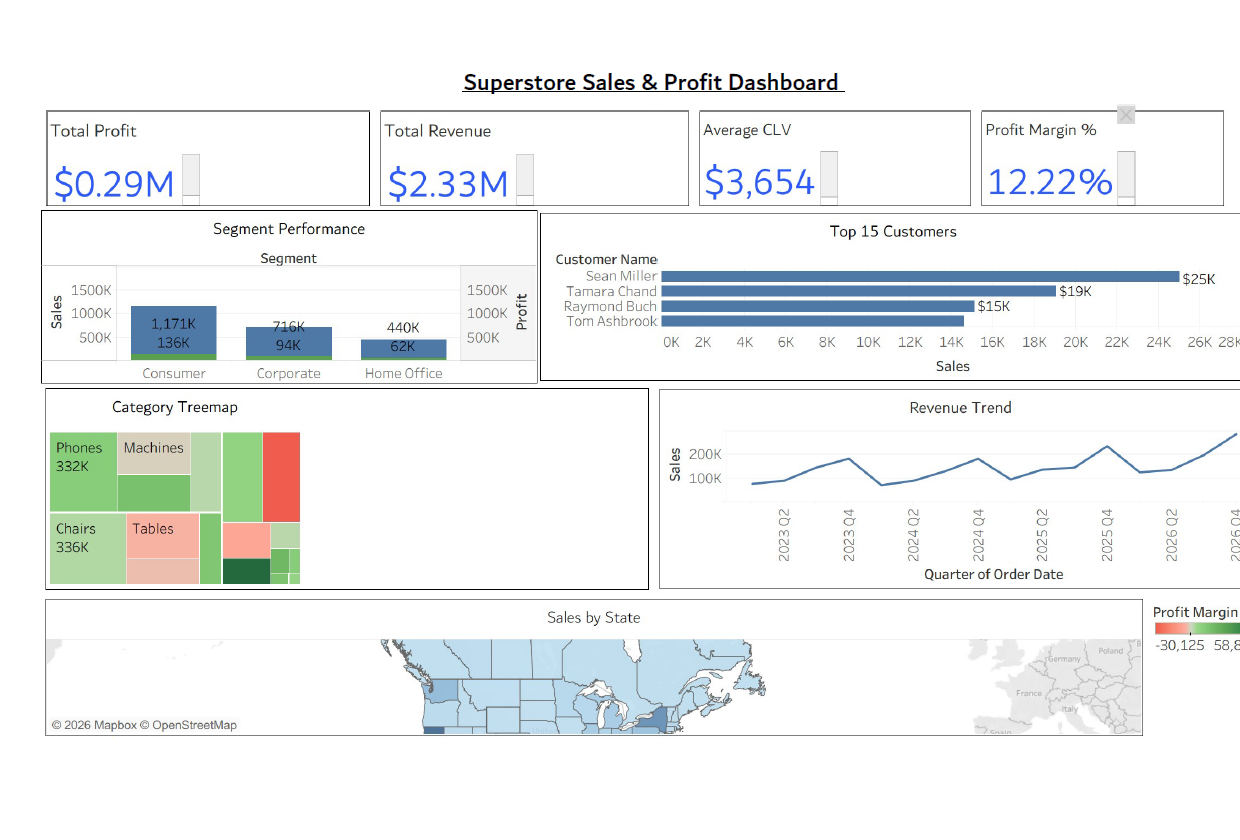

This screenshot's page, from the dashboard's own definition file:
{"tool":"tableau","page":{"name":"Dashboard 1","canvas":[1000,1000],"units":"permille","ordinal":0},"visuals":[{"type":"title","box":[4.8,8.6,990.3,67]},{"type":"worksheet","title":"Sheet 7","mark":"Automatic","box":[4.8,75.6,269.8,150.9]},{"type":"worksheet","title":"Sheet 6","mark":"Text","box":[274.7,75.6,257.7,150.9]},{"type":"worksheet","title":"Sheet 8","mark":"Automatic","box":[532.4,75.6,228.1,150.9]},{"type":"worksheet","title":"Sheet 9","mark":"Automatic","box":[760.4,75.6,204.5,150.9]},{"type":"dashboard-object","box":[874.2,75.6,14.5,25.9]},{"type":"worksheet","title":"Sheet 3","mark":"Bar","rows":["Sales","Profit"],"cols":["Segment"],"box":[4.8,226.5,401.1,250.6]},{"type":"worksheet","title":"Sheet 5","mark":"Automatic","rows":["Customer_Name"],"cols":["Sales"],"box":[405.9,226.5,589.2,250.6]},{"type":"worksheet","title":"Sheet 2","mark":"Square","box":[4.8,477.1,495.2,303.9]},{"type":"worksheet","title":"Sheet 1","mark":"Line","rows":["Sales"],"cols":["Order_Date"],"box":[500,477.1,495.2,303.9]},{"type":"worksheet","title":"Sheet 4","mark":"Automatic","box":[4.8,781,893.5,210.3]},{"type":"legend","title":"Sheet 2","param":"[federated.05gp9si01f323b1apcgwm14v2mk1].[sum:Profit_Margin_%:qk]","box":[898.4,781,96.8,210.3]}]}

Visuals, with their boxes on the dashboard's canvas, which has no fixed pixel size, in thousandths of its width and height (x1, y1, x2, y2). These are canvas units, not pixel positions in the 1240x840 screenshot, which may show the page scaled, cropped or inside an application window:
title: rect(5, 9, 995, 76)
"Sheet 7" worksheet: rect(5, 76, 275, 226)
"Sheet 6" worksheet (Text marks): rect(275, 76, 532, 226)
"Sheet 8" worksheet: rect(532, 76, 760, 226)
"Sheet 9" worksheet: rect(760, 76, 965, 226)
dashboard-object: rect(874, 76, 889, 102)
"Sheet 3" worksheet (Bar marks): rect(5, 226, 406, 477)
"Sheet 5" worksheet: rect(406, 226, 995, 477)
"Sheet 2" worksheet (Square marks): rect(5, 477, 500, 781)
"Sheet 1" worksheet (Line marks): rect(500, 477, 995, 781)
"Sheet 4" worksheet: rect(5, 781, 898, 991)
"Sheet 2" legend: rect(898, 781, 995, 991)
